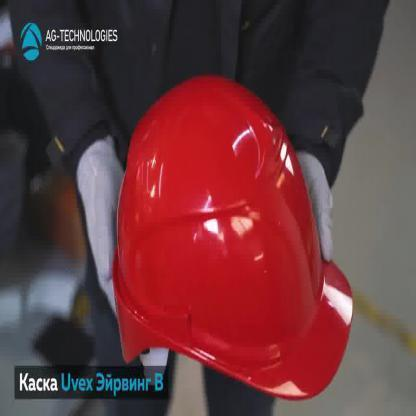gloves: (74, 130, 128, 324), (291, 138, 337, 264)
helmet: (110, 72, 355, 404)
